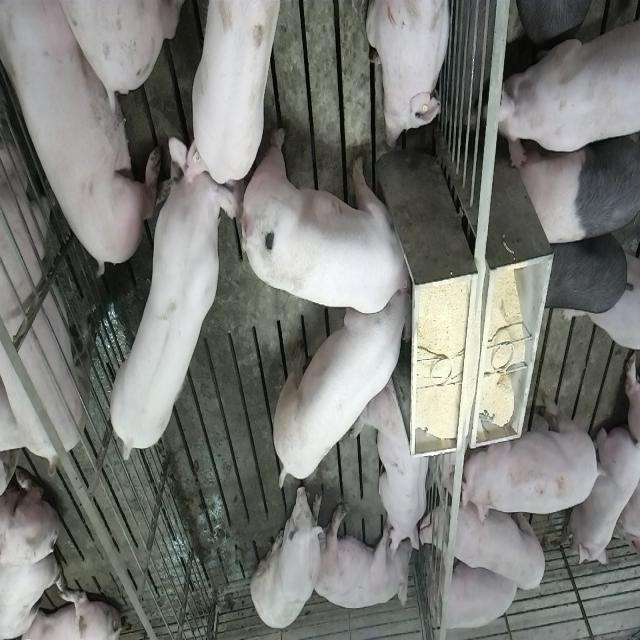Feeding: (245, 126, 420, 316), (268, 285, 410, 497)
Lateral_lying: (310, 502, 414, 610)
Sitting: (250, 482, 326, 633)
Standing: (0, 20, 98, 468), (105, 135, 236, 468), (498, 0, 638, 159), (462, 388, 604, 520), (179, 0, 280, 185), (516, 128, 638, 248), (536, 228, 634, 316), (514, 0, 604, 44)
Sternal_lying: (357, 374, 432, 555), (365, 0, 453, 151), (572, 420, 638, 568)
